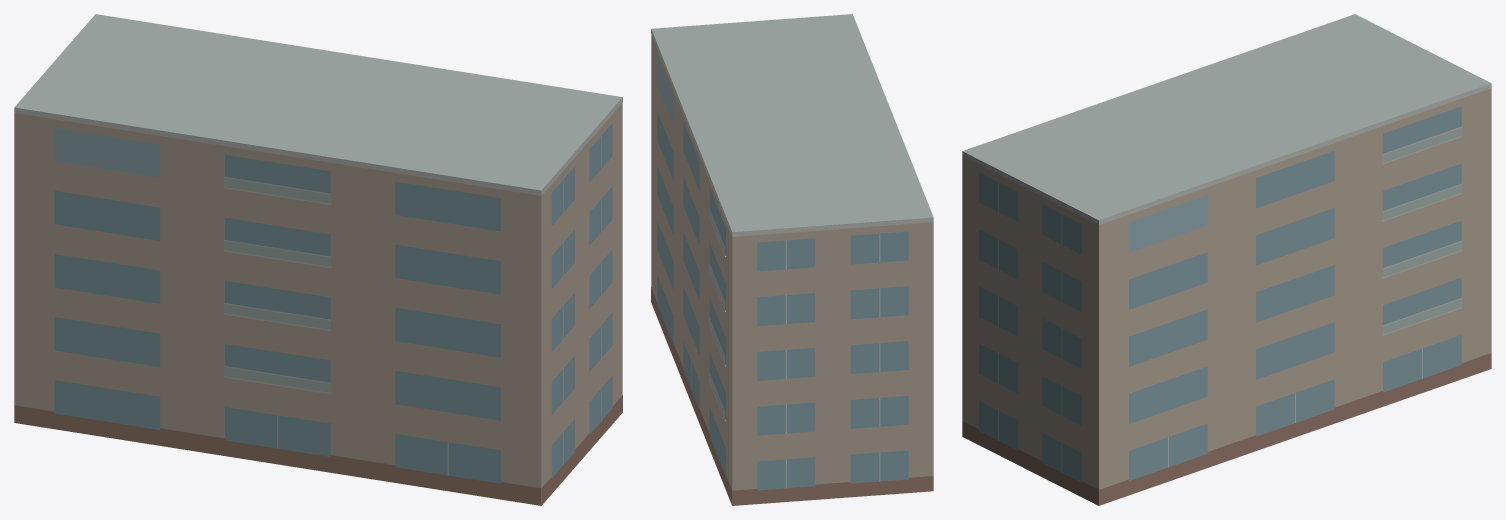
The model's file is survey-upis-32943136.glb.
3 renders of one model, left to right at view 1: azimuth 30°, elevation 25°; view 2: azimuth 150°, elevation 25°; view 3: azimuth 270°, elevation 25°, orthographic. The views are drawn at different scales.
Parts seen in each view (by area): view 1: survey-upis-32943136.tmp; view 2: survey-upis-32943136.tmp; view 3: survey-upis-32943136.tmp.
Part boxes in pixels (x1,y1,x2,y2): survey-upis-32943136.tmp: (14, 14, 622, 505); survey-upis-32943136.tmp: (651, 14, 933, 505); survey-upis-32943136.tmp: (962, 14, 1491, 505).
Size of the model in its own units: 22.02 by 14.2 by 23.87.
